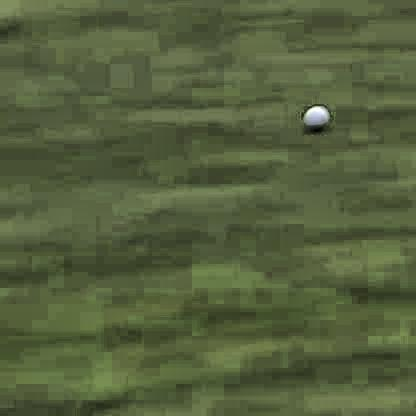golfball: (300, 101, 328, 131)
